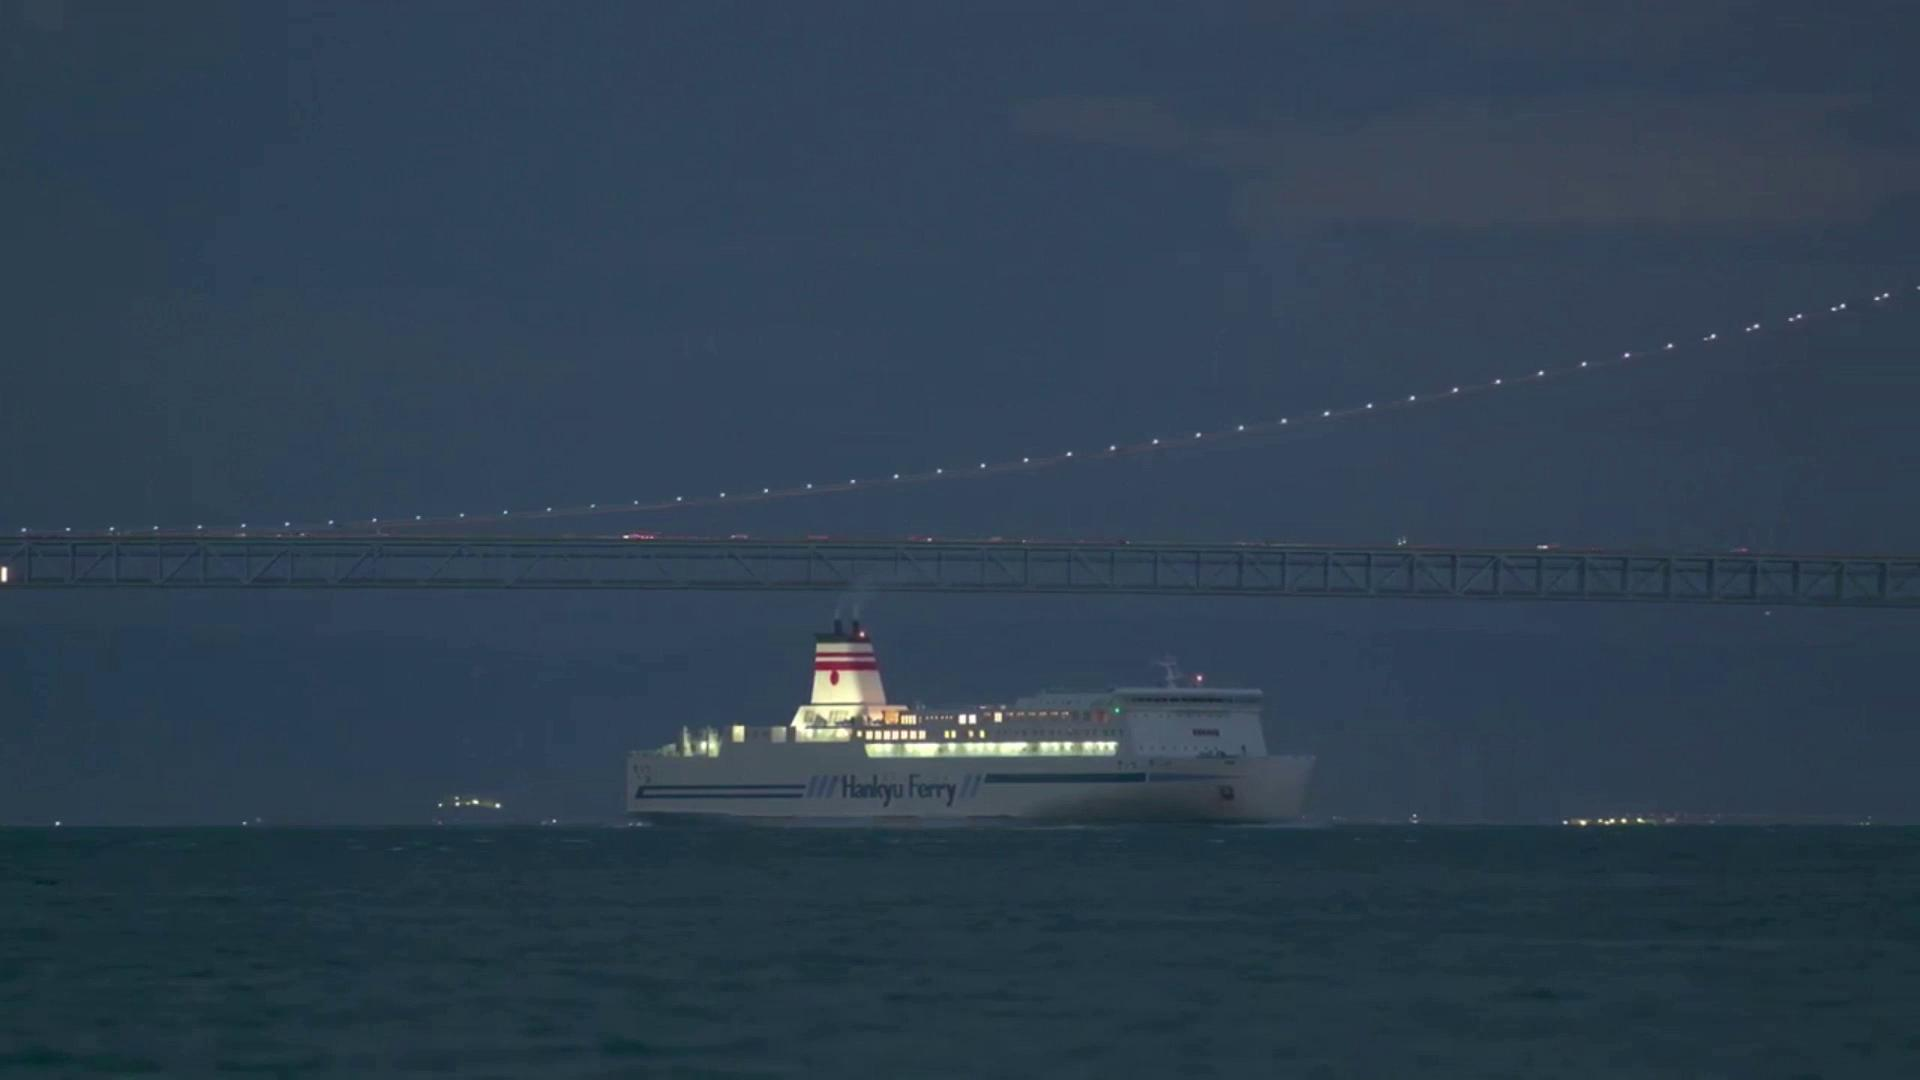OCR: (829, 764, 967, 812)
